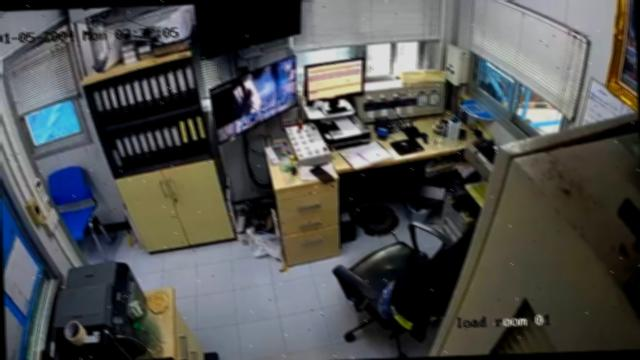Phone: (306, 166, 335, 184)
